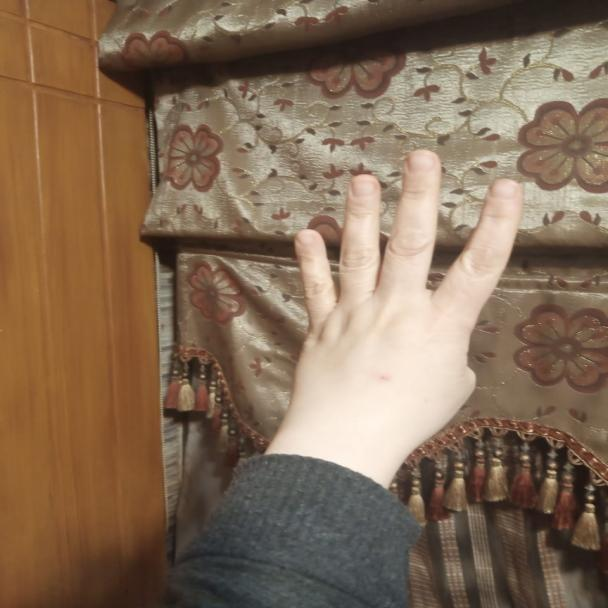four: (286, 148, 526, 469)
